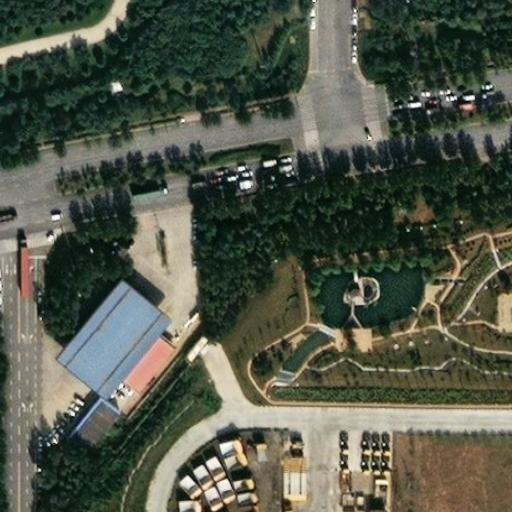building: (39, 258, 156, 380), (47, 381, 110, 451), (104, 316, 162, 379), (180, 326, 212, 361), (174, 494, 196, 512), (54, 504, 76, 512)
